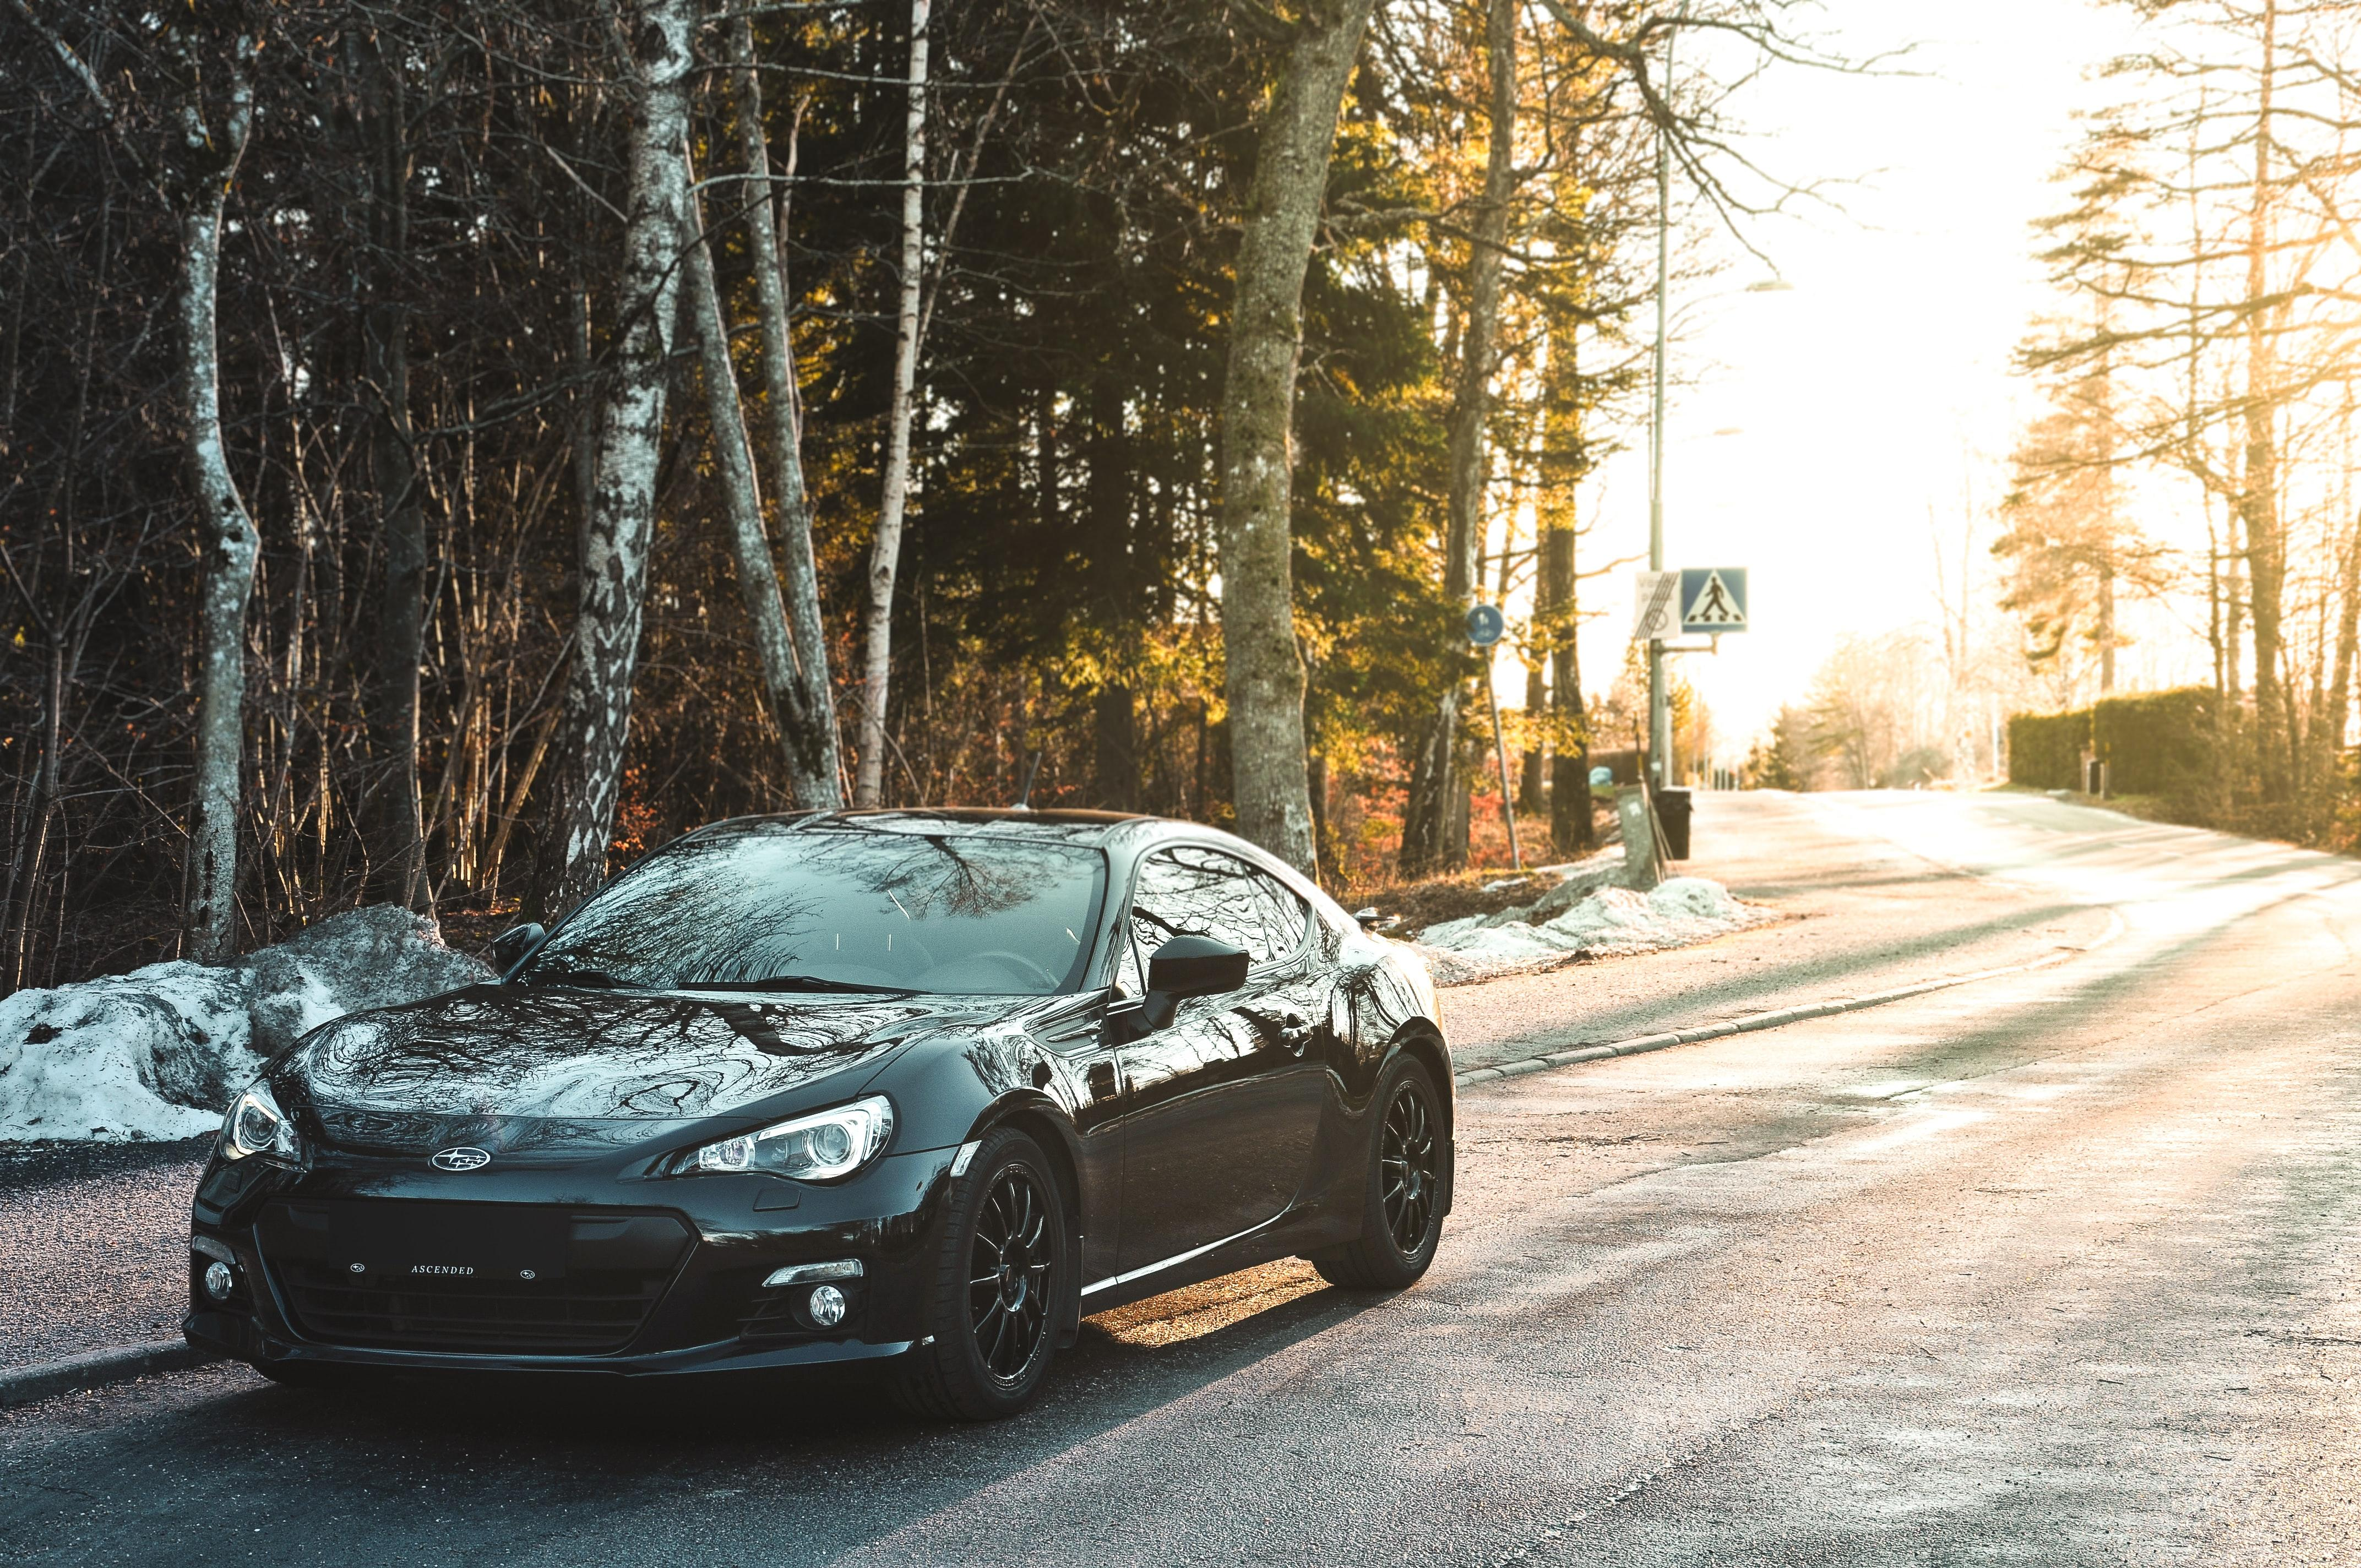subaru: (408, 1123, 515, 1193)
